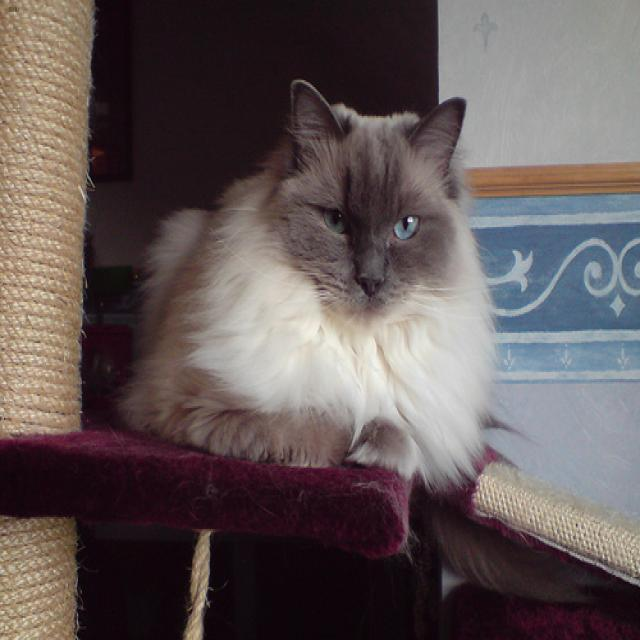Ragdoll: (290, 77, 464, 329)
